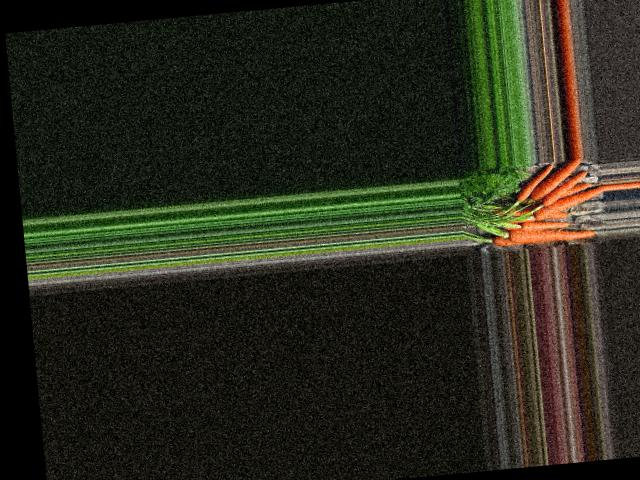carrot: (512, 164, 553, 202)
